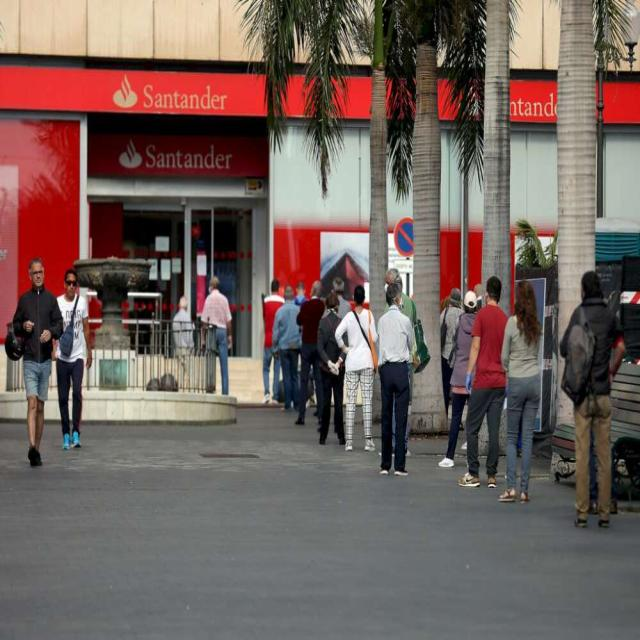santander: (114, 74, 138, 109), (118, 138, 143, 169)
